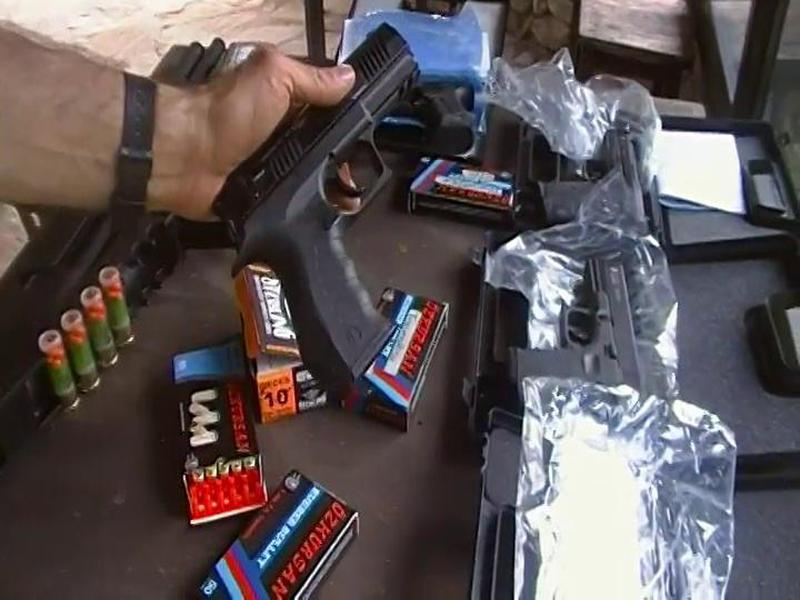Pistola: (196, 9, 439, 401)
